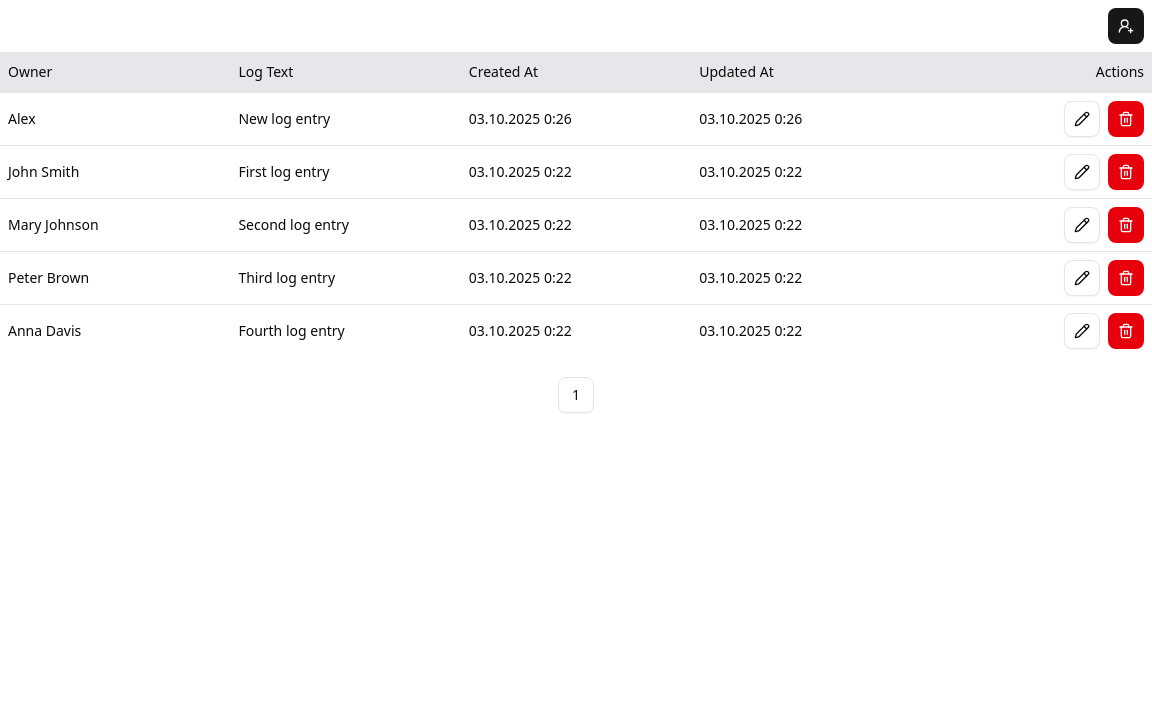
Test: CRUD Logs › Create Log › Creates a new log
Expected: the table with test id "user-table" is shown, [0,52,1151,357]
Click the button with test id "create-form-open-btn" at (1126,26), box [1108,8,1144,44]
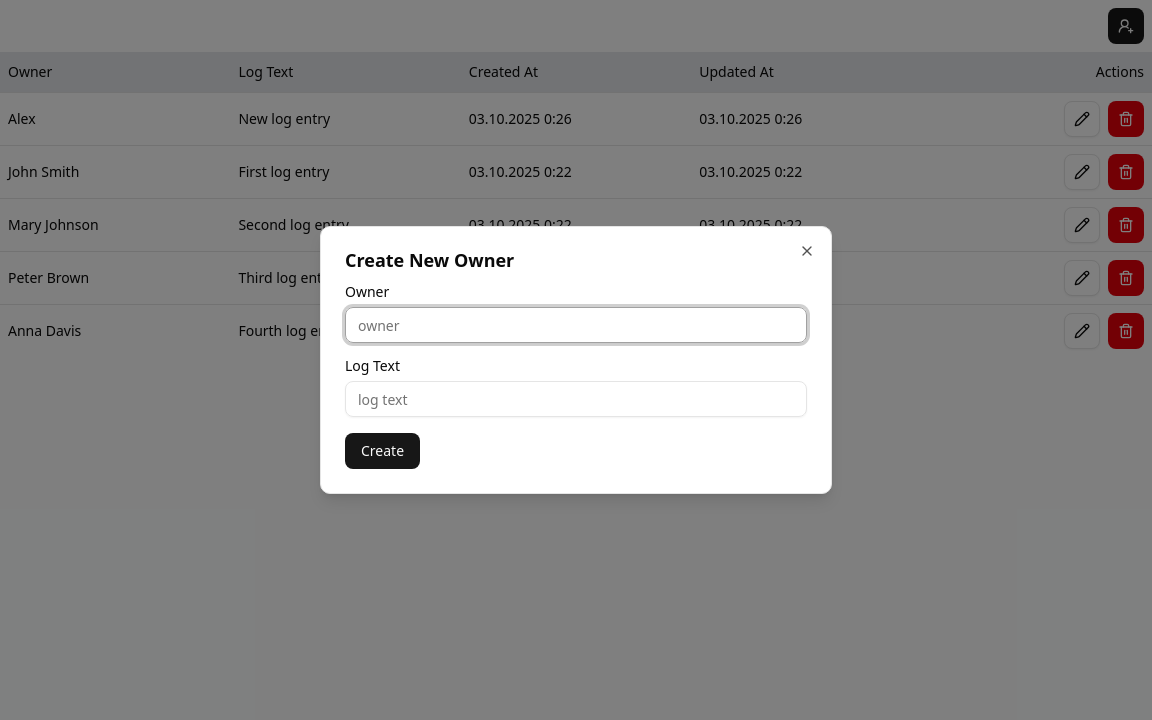
Expected: the field with test id "owner-create-input" is shown
Type "Alice" into the field with test id "owner-create-input" at (576,325), box [345,307,807,343]
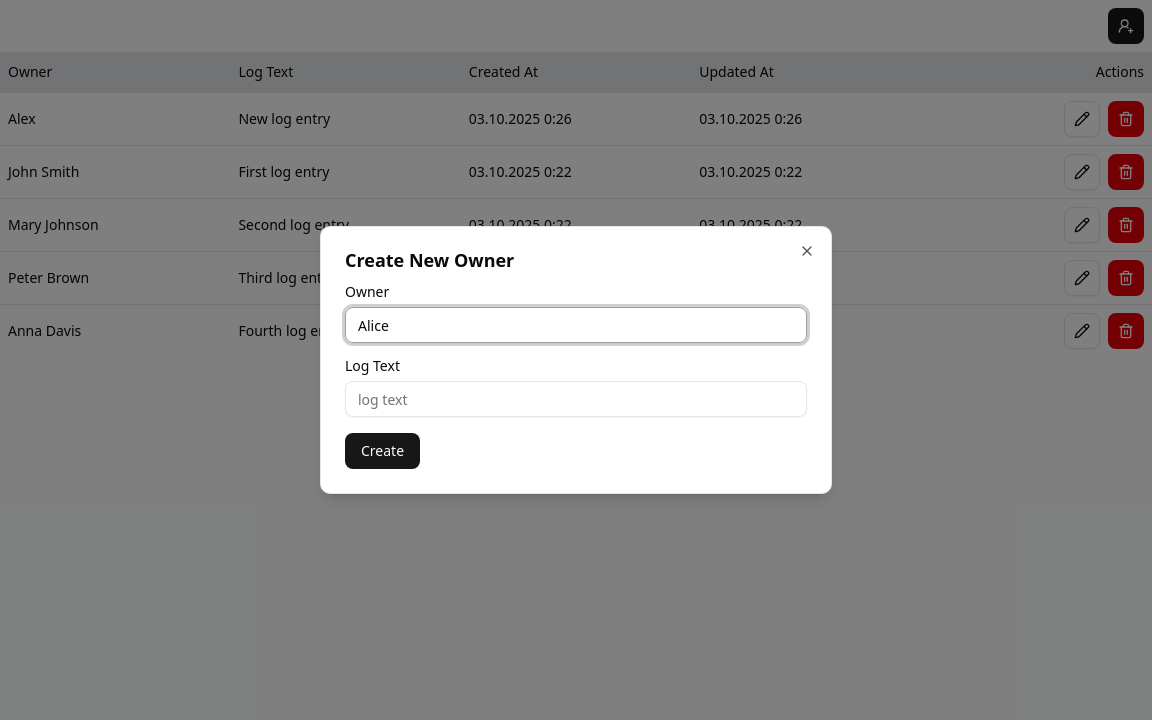
Expected: the field with test id "text-create-input" is shown
Type "This is a new log" into the field with test id "text-create-input" at (576,399), box [345,381,807,417]
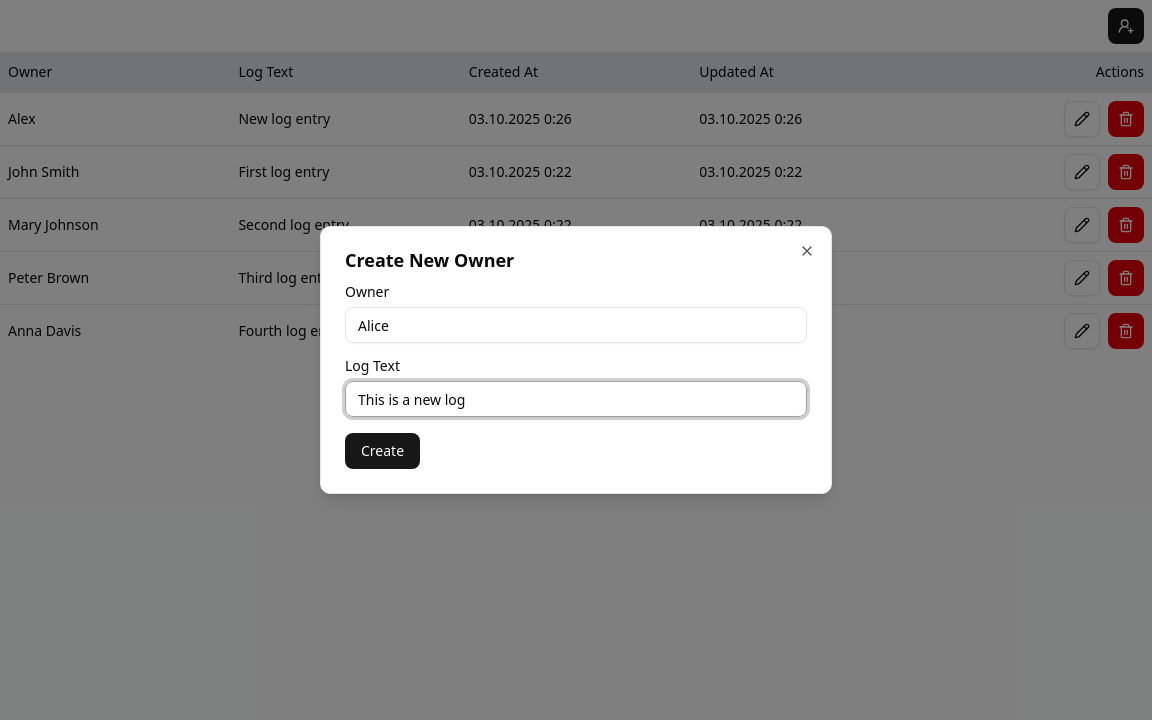
Click the button with test id "create-submit-button" at (383,451), box [345,433,420,469]
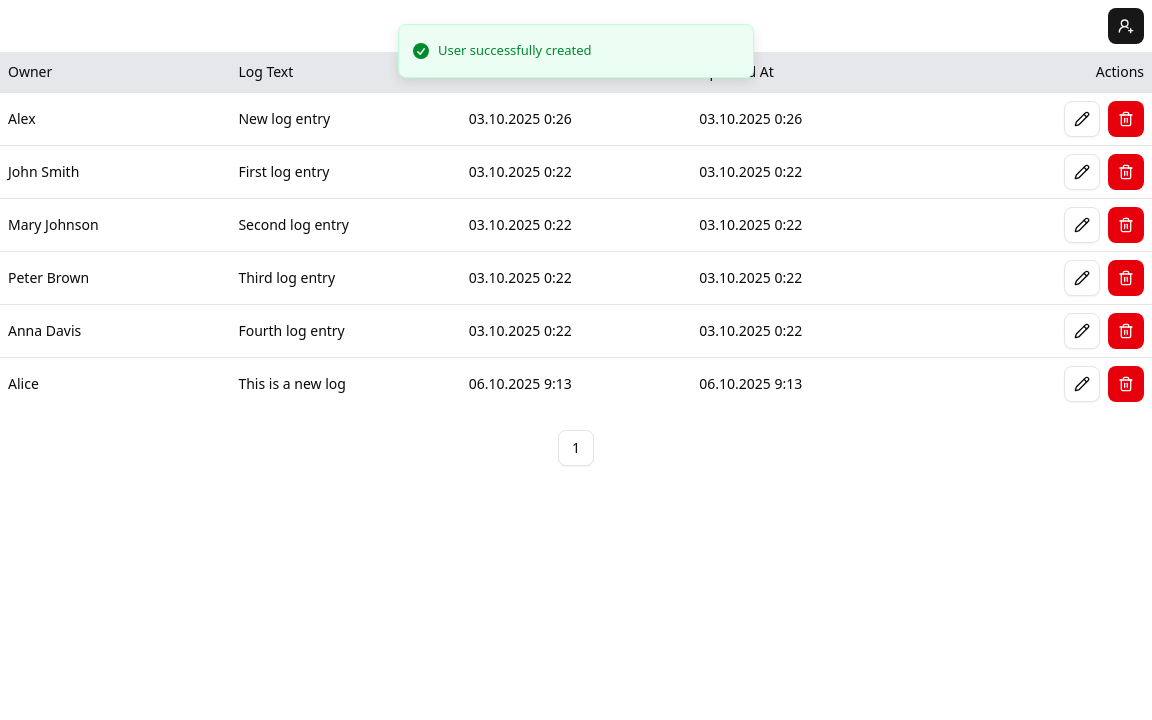
Expected: the cell with test id "user-table" reads "Alice", [8,374,39,393]
Expected: the cell with test id "user-table" reads "This is a new log", [238,374,345,393]
